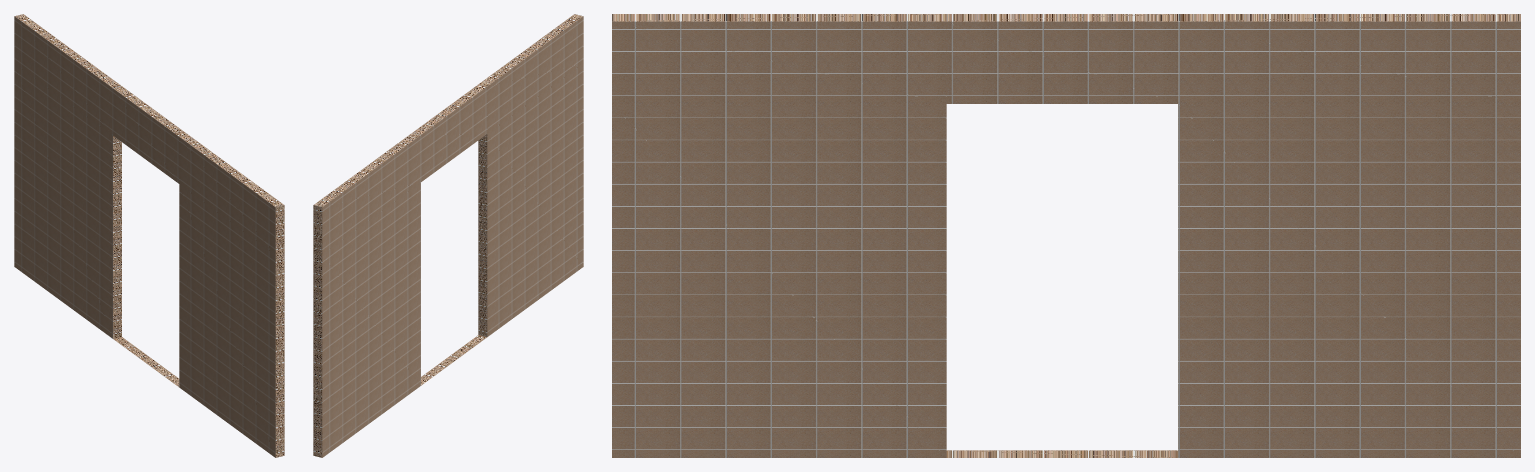
Rendered from 3rd wall.fbx.
3 views of the same model, side by side, from view 1: azimuth 30°, elevation 25°; view 2: azimuth 150°, elevation 25°; view 3: azimuth 270°, elevation 25° (orthographic). The views are drawn at different scales.
Visible parts, largest first — view 1: Cube.012; view 2: Cube.012; view 3: Cube.012.
Boxes of the visible parts, x1=… form: Cube.012: x1=14, y1=14, x2=284, y2=457; Cube.012: x1=313, y1=14, x2=583, y2=457; Cube.012: x1=612, y1=14, x2=1520, y2=457.
Size of the model in its own units: 675 by 358 by 13.48.
Materials: 1 (1 with a texture image).
